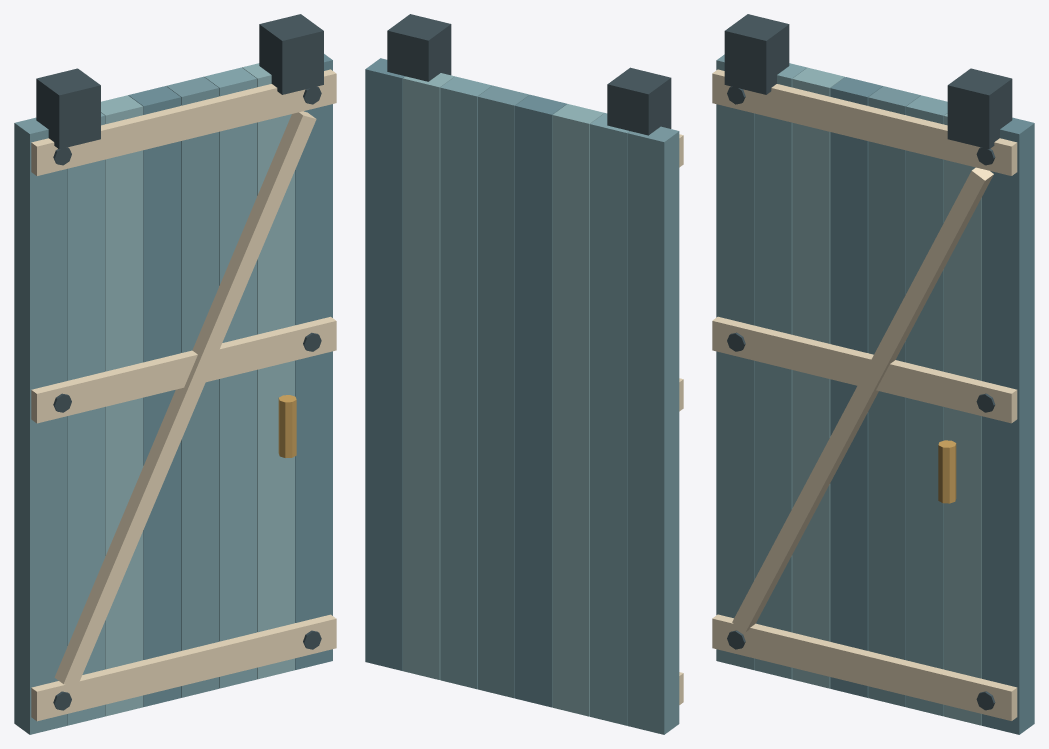
The model's file is vantail_hangar.glb.
3 renders of one model, left to right at view 1: azimuth 30°, elevation 25°; view 2: azimuth 150°, elevation 25°; view 3: azimuth 330°, elevation 25°, orthographic.
Visible parts, largest first — view 1: Planche peinte, Planche peinte.004, Planche peinte.007, Planche peinte.002, Planche peinte.003, Planche peinte.005, Planche peinte.001, Planche peinte.006, Écharpe du vantail, Traverse de vantail, Traverse de vantail.001, Traverse de vantail.002 (+3 smaller); view 2: Planche peinte, Planche peinte.006, Planche peinte.005, Planche peinte.002, Planche peinte.003, Planche peinte.004, Planche peinte.007, Planche peinte.001, Coulisse de porte, Coulisse de porte.001; view 3: Planche peinte.007, Planche peinte, Planche peinte.004, Planche peinte.003, Planche peinte.002, Planche peinte.001, Planche peinte.005, Planche peinte.006, Écharpe du vantail, Traverse de vantail, Traverse de vantail.001, Traverse de vantail.002 (+3 smaller).
Boxes of the visible parts, x1,y1,x2,y2 form: Planche peinte: [14, 117, 67, 734]; Planche peinte.004: [166, 76, 218, 697]; Planche peinte.007: [295, 54, 332, 669]; Planche peinte.002: [101, 95, 143, 716]; Planche peinte.003: [128, 86, 180, 706]; Planche peinte.005: [204, 67, 256, 688]; Planche peinte.001: [67, 113, 105, 725]; Planche peinte.006: [242, 63, 294, 679]; Écharpe du vantail: [54, 111, 316, 687]; Traverse de vantail: [31, 614, 336, 721]; Traverse de vantail.001: [31, 316, 336, 423]; Traverse de vantail.002: [31, 69, 336, 175]; Planche peinte: [627, 126, 679, 734]; Planche peinte.006: [402, 73, 454, 679]; Planche peinte.005: [440, 76, 492, 689]; Planche peinte.002: [552, 104, 604, 716]; Planche peinte.003: [515, 94, 566, 707]; Planche peinte.004: [477, 85, 529, 698]; Planche peinte.007: [365, 58, 404, 670]; Planche peinte.001: [590, 113, 629, 725]; Coulisse de porte: [607, 67, 671, 135]; Coulisse de porte.001: [387, 14, 451, 81]; Planche peinte.007: [982, 117, 1034, 734]; Planche peinte: [716, 54, 754, 669]; Planche peinte.004: [868, 86, 920, 706]; Planche peinte.003: [830, 77, 882, 697]; Planche peinte.002: [792, 67, 844, 688]; Planche peinte.001: [754, 63, 807, 679]; Planche peinte.005: [906, 95, 947, 716]; Planche peinte.006: [944, 113, 981, 725]; Écharpe du vantail: [732, 167, 993, 632]; Traverse de vantail: [712, 614, 1017, 720]; Traverse de vantail.001: [712, 316, 1017, 423]; Traverse de vantail.002: [712, 69, 1017, 175].
Size of the model in its own units: 1.82 by 3.69 by 0.348.
